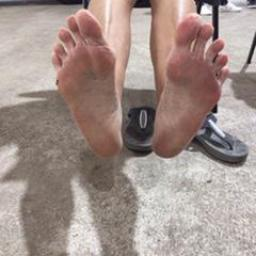Plantar View -Both Feet-: (42, 4, 236, 164)
